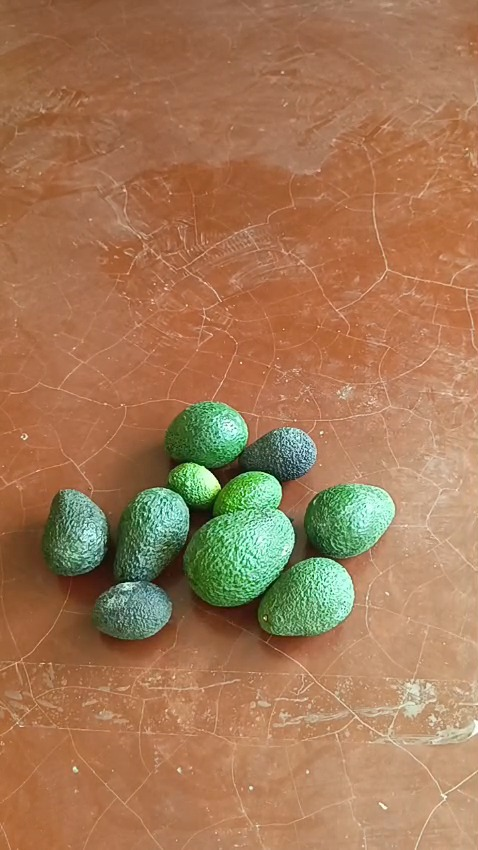Primera: (184, 507, 295, 605)
Segunda: (257, 556, 355, 636), (112, 486, 191, 583), (304, 482, 396, 557), (41, 488, 110, 576), (164, 401, 247, 468)
Tercera: (90, 578, 172, 639), (240, 426, 318, 482), (212, 471, 282, 517), (167, 461, 221, 510)
